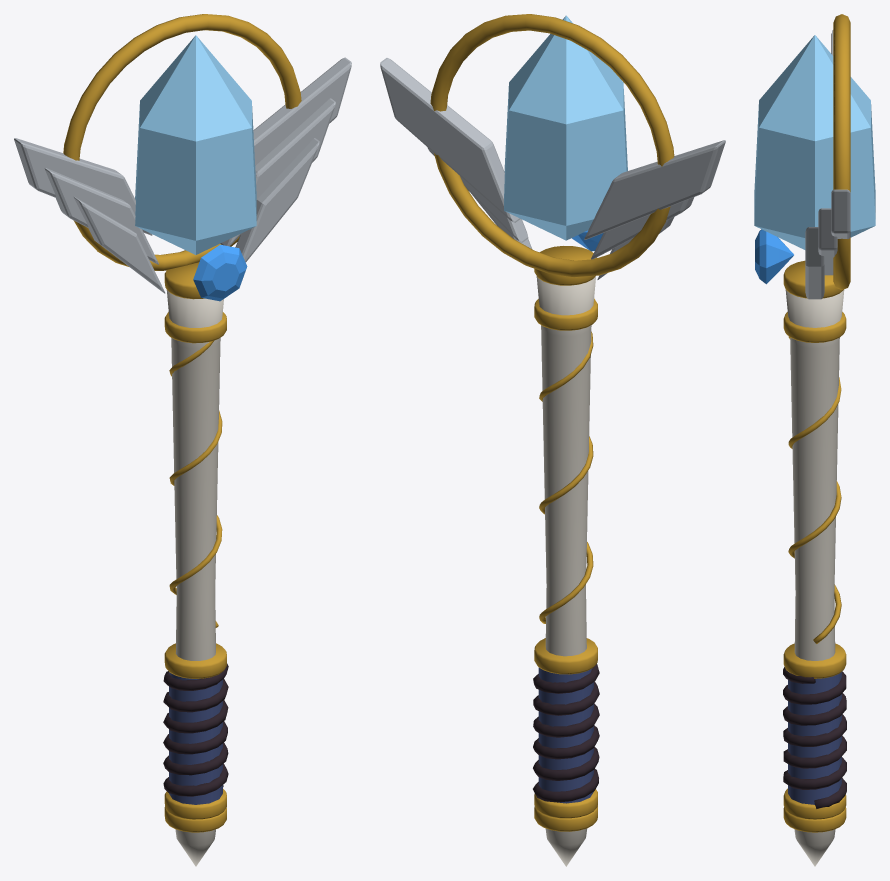
File: mace_saint.fbx
3 renders of one model, left to right at view 1: azimuth 30°, elevation 25°; view 2: azimuth 150°, elevation 25°; view 3: azimuth 270°, elevation 25°, orthographic. The views are drawn at different scales.
Visible parts, largest first — view 1: mace_saint; view 2: mace_saint; view 3: mace_saint.
Boxes of the visible parts, box(x1,y1,x2,y2) form: mace_saint: box(14, 14, 351, 866); mace_saint: box(380, 14, 725, 866); mace_saint: box(754, 14, 875, 866).
Size of the model in its own units: 0.3542 by 0.858 by 0.1126.
